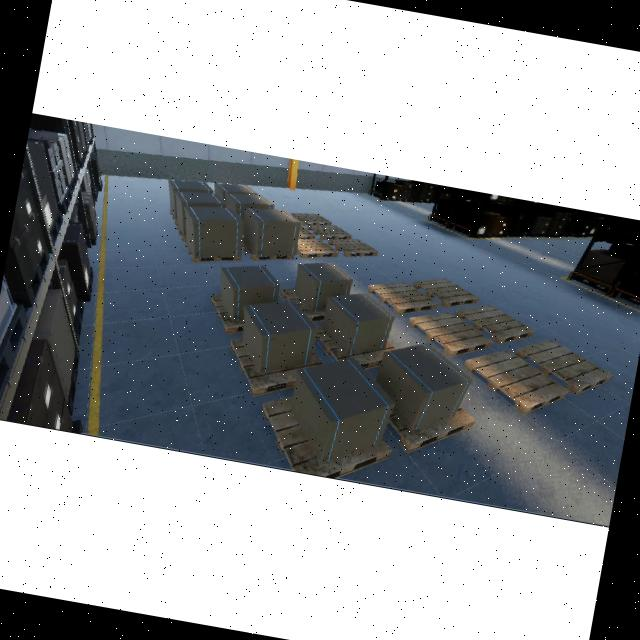wooden_pallet: (261, 396, 392, 478), (463, 349, 569, 414), (515, 339, 613, 394), (387, 405, 475, 453), (407, 312, 493, 357), (456, 304, 535, 343), (367, 281, 438, 314), (412, 278, 479, 307), (327, 238, 378, 257), (296, 238, 338, 258)
